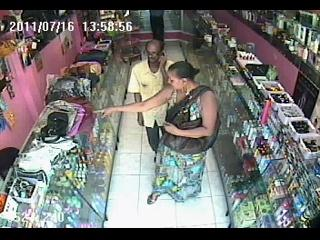Normal: (100, 61, 221, 204), (126, 39, 172, 154), (75, 50, 108, 66)
